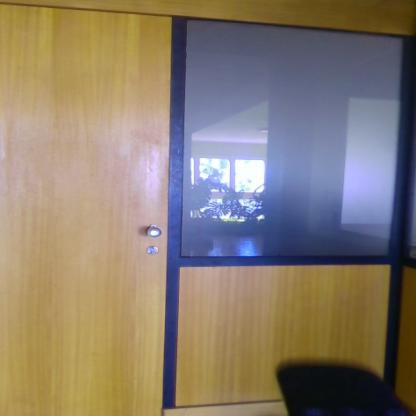door: (0, 0, 164, 416)
knob: (147, 224, 162, 240)
